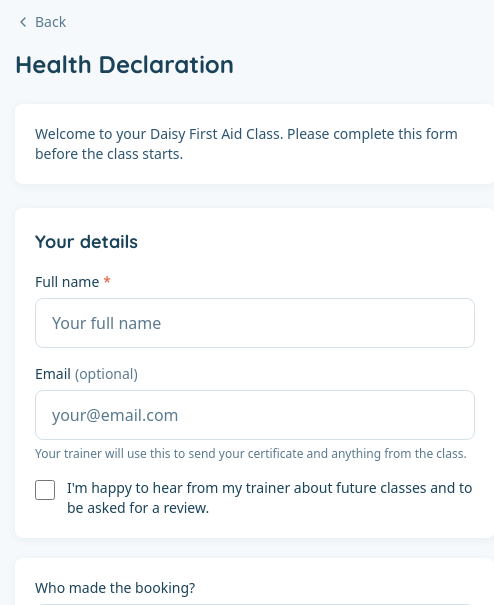
Test: DeclarationPage attendee emails (B7, platform migration 067) › makes the email required once the future-classes box is ticked
Click the checkbox named "I'm happy to hear from my trainer about future classes and to be asked for a review.": click(45, 490) [35, 480, 55, 500]
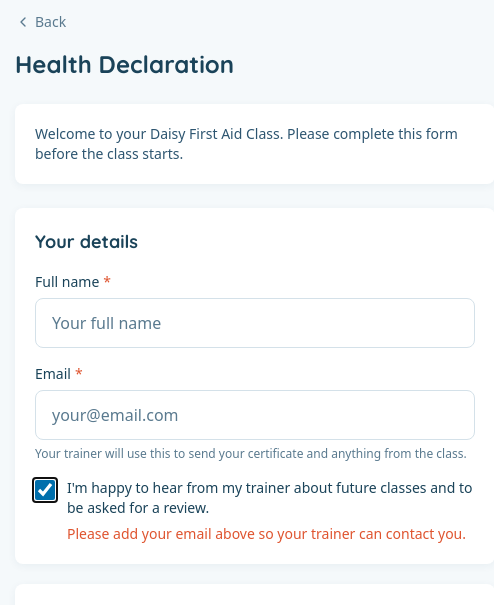
expect the text "(optional)" is gone: met
expect the text "Please add your email above so your trainer can contact you." is shown: met, box [35, 524, 475, 544]
In the field with placeholder "your@email.com": (255, 415) [35, 390, 475, 440], type "jane@example.com"
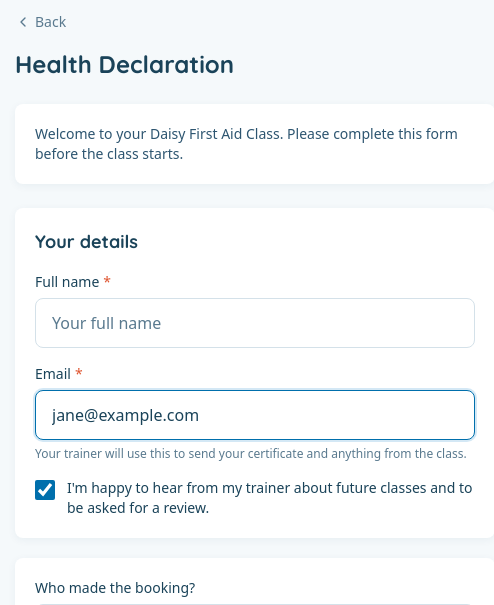
expect the text "Please add your email above so your trainer can contact you." is gone: met
